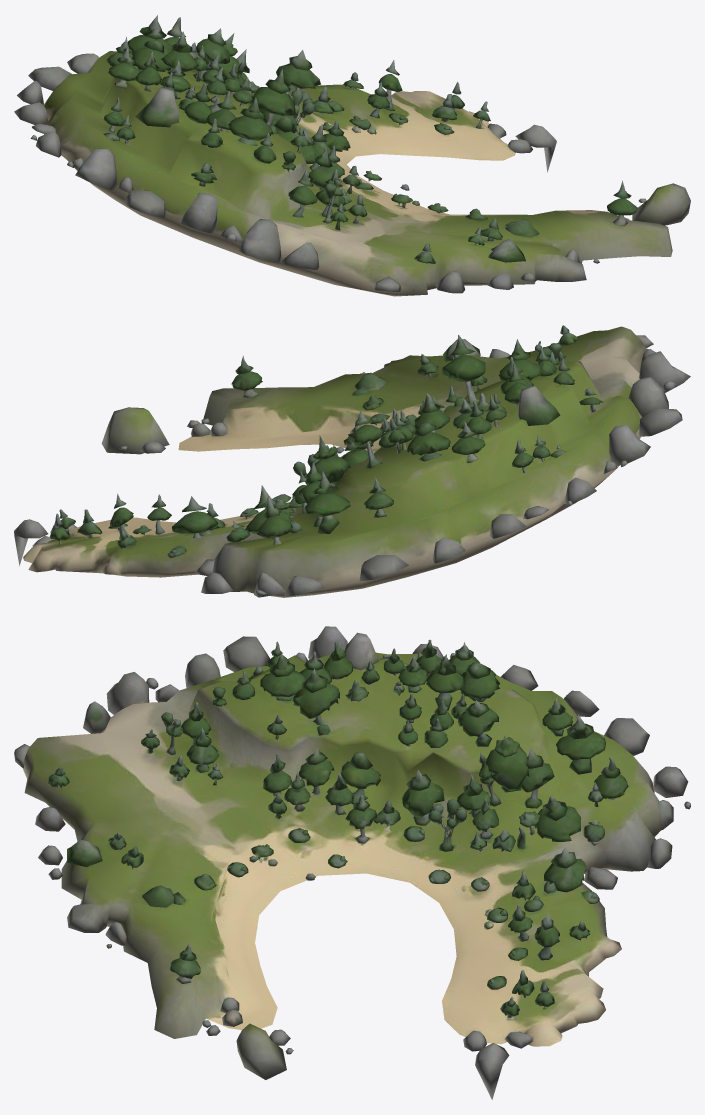
The model's file is isle_06.glb.
The picture shows the model from 3 angles, top to bottom: view 1: azimuth 30°, elevation 25°; view 2: azimuth 150°, elevation 25°; view 3: azimuth 270°, elevation 25°; orthographic projection.
Parts seen in each view (by area): view 1: tripo_node_4a806138-7df8-491d-af5f-9e9417daf1ee; view 2: tripo_node_4a806138-7df8-491d-af5f-9e9417daf1ee; view 3: tripo_node_4a806138-7df8-491d-af5f-9e9417daf1ee.
Boxes of the visible parts, x1=… form: tripo_node_4a806138-7df8-491d-af5f-9e9417daf1ee: x1=14, y1=15, x2=690, y2=296; tripo_node_4a806138-7df8-491d-af5f-9e9417daf1ee: x1=14, y1=325, x2=690, y2=597; tripo_node_4a806138-7df8-491d-af5f-9e9417daf1ee: x1=14, y1=626, x2=690, y2=1099.
Bounding box in the file's own units: 116 × 48.69 × 116.
Materials: 1 (1 with a texture image).
